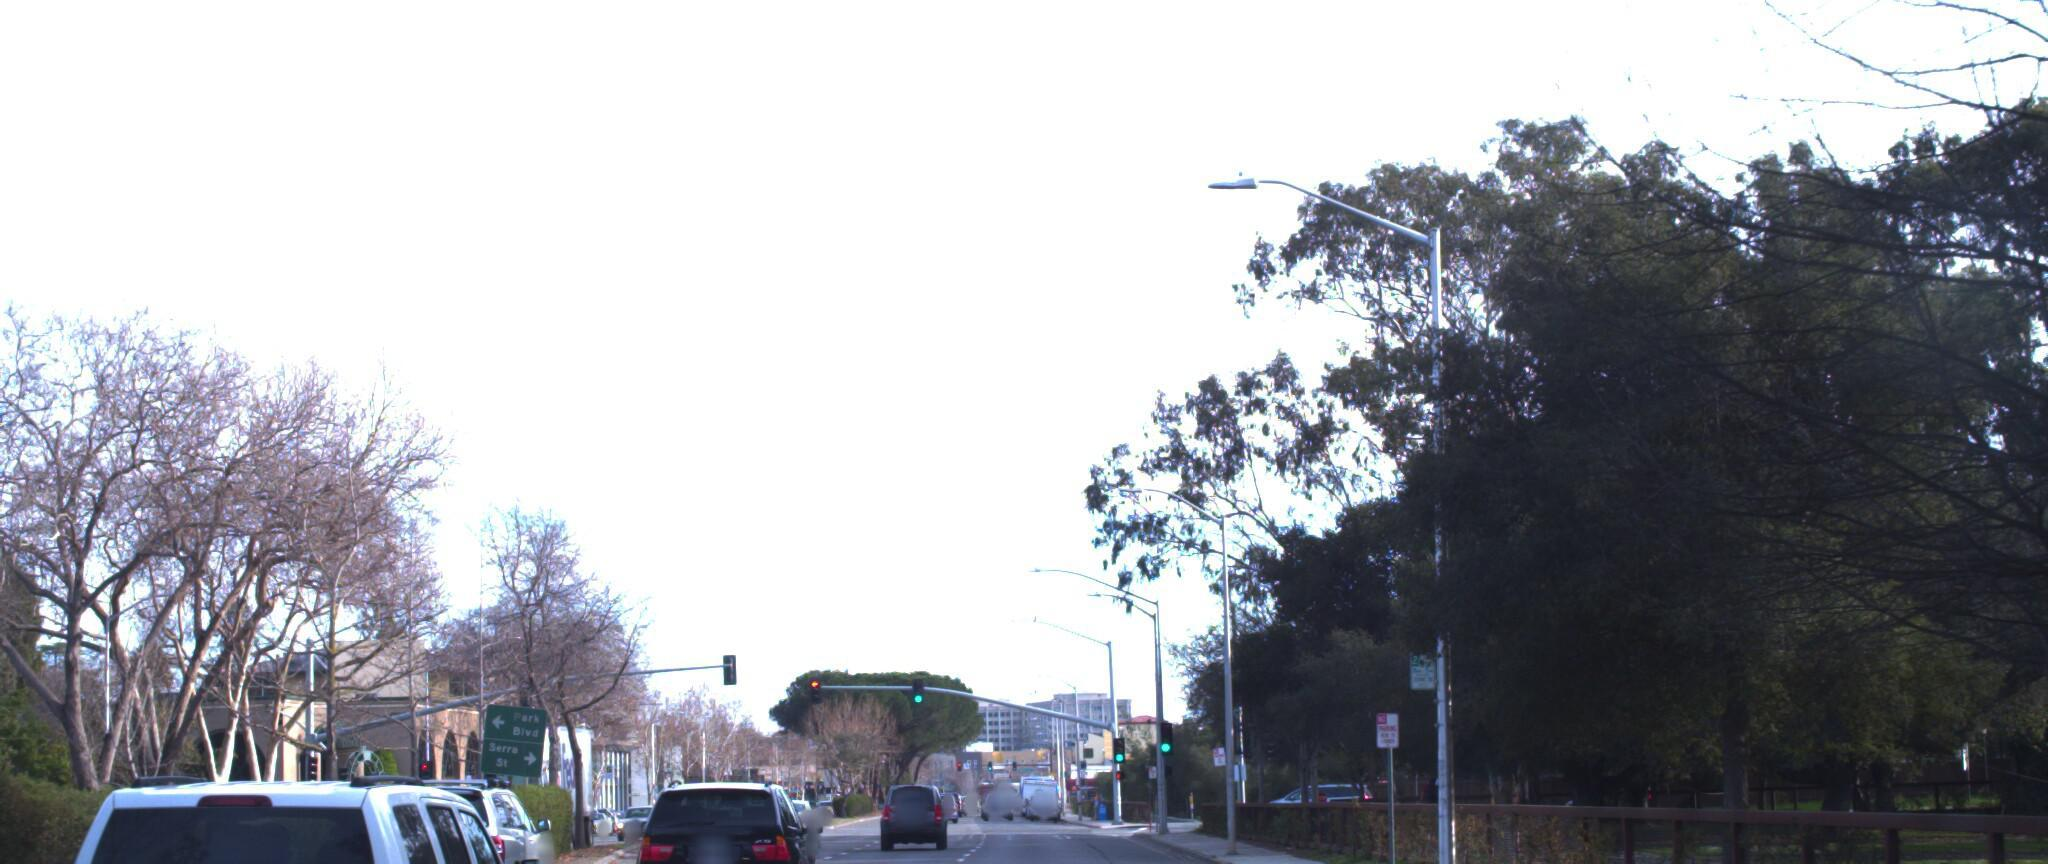car: (0, 733, 562, 864), (341, 769, 566, 864), (623, 767, 815, 864)
